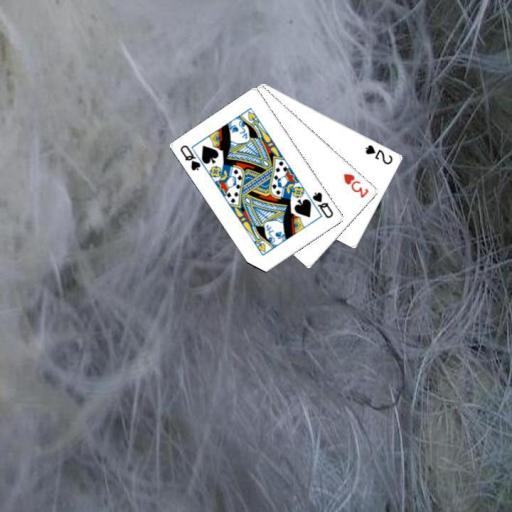2S: (362, 142, 395, 166)
3H: (341, 170, 371, 200)
QS: (309, 189, 335, 220), (177, 142, 203, 172)
